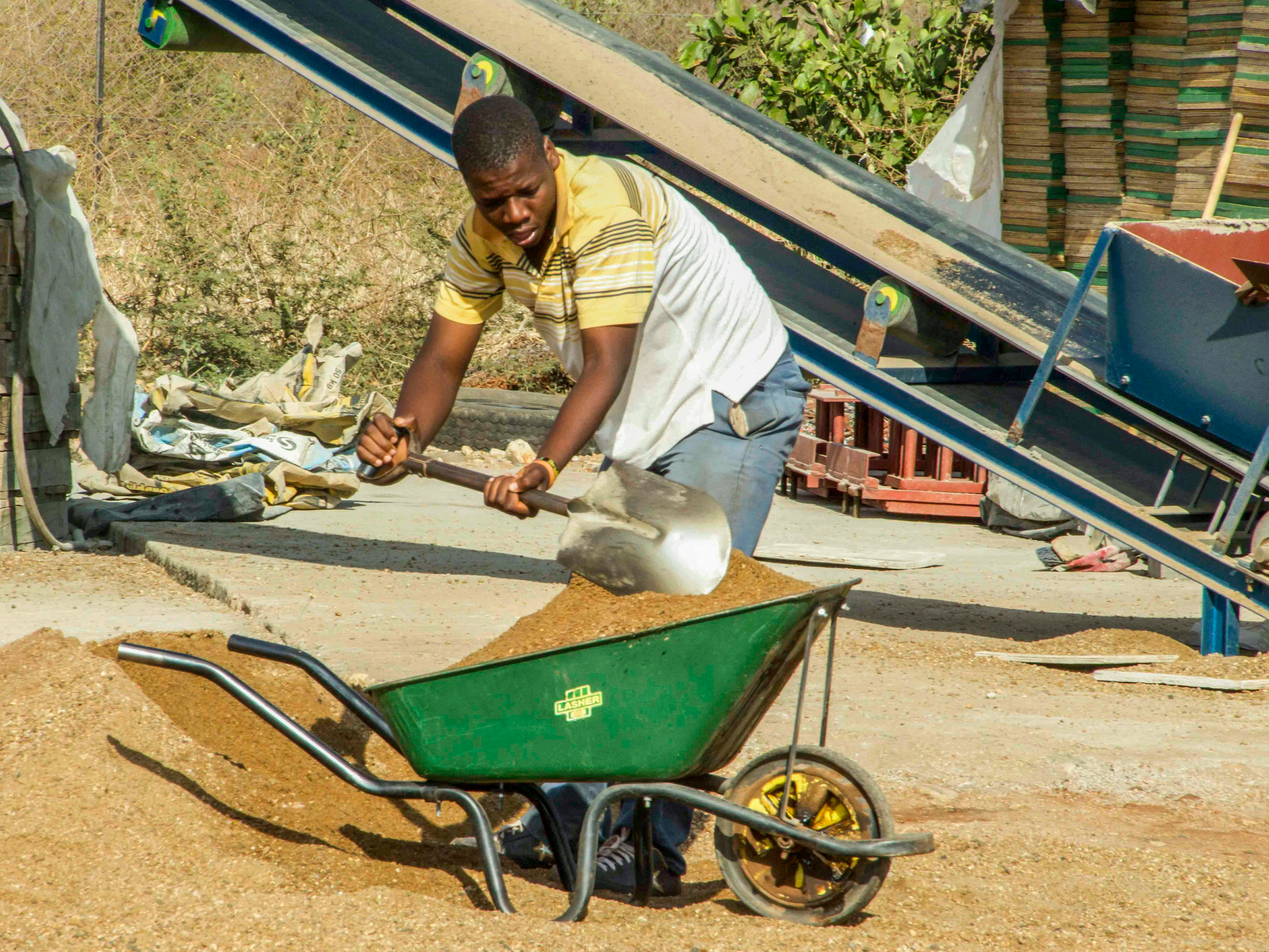No_Helmet: (459, 95, 559, 238)
